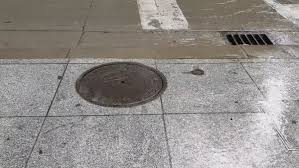Manhole-Closed: (74, 55, 182, 113)
